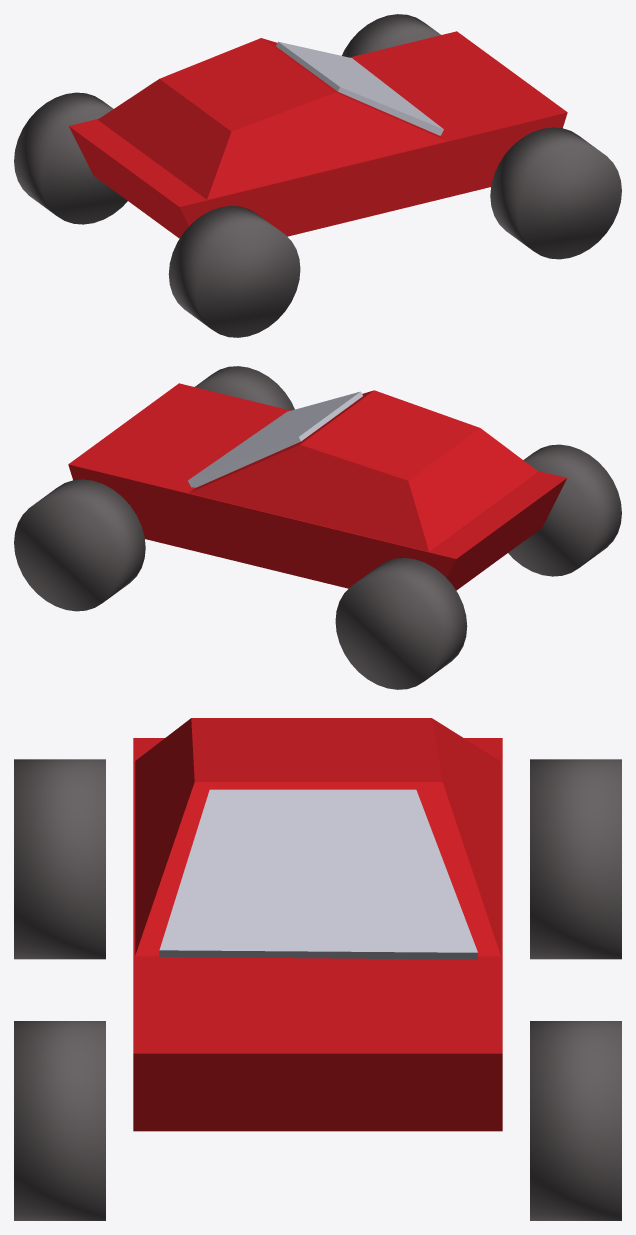
File: ToyCar1.fbx
The picture shows the model from 3 angles, top to bottom: view 1: azimuth 30°, elevation 25°; view 2: azimuth 150°, elevation 25°; view 3: azimuth 270°, elevation 25°; orthographic projection. The views are drawn at different scales.
Parts seen in each view (by area): view 1: CarBody, WheelFR, WheelBR, WheelBL, Glass, WheelFL; view 2: CarBody, WheelFL, WheelBL, WheelBR, Glass, WheelFR; view 3: CarBody, Glass, WheelBR, WheelBL, WheelFR, WheelFL.
Boxes of the visible parts, left/top/right/bottom form: CarBody: left=69, top=31, right=567, bottom=238; WheelFR: left=490, top=127, right=621, bottom=259; WheelBR: left=168, top=206, right=300, bottom=337; WheelBL: left=14, top=92, right=127, bottom=224; Glass: left=276, top=41, right=443, bottom=135; WheelFL: left=342, top=14, right=440, bottom=57; CarBody: left=68, top=383, right=566, bottom=590; WheelFL: left=14, top=479, right=145, bottom=611; WheelBL: left=335, top=558, right=467, bottom=689; WheelBR: left=508, top=444, right=621, bottom=576; Glass: left=188, top=391, right=362, bottom=487; WheelFR: left=195, top=366, right=294, bottom=410; CarBody: left=133, top=718, right=502, bottom=1131; Glass: left=159, top=789, right=477, bottom=959; WheelBR: left=14, top=759, right=105, bottom=959; WheelBL: left=530, top=759, right=621, bottom=959; WheelFR: left=14, top=1021, right=105, bottom=1220; WheelFL: left=530, top=1021, right=621, bottom=1220.
Size of the model in its own units: 419 by 311 by 160.
